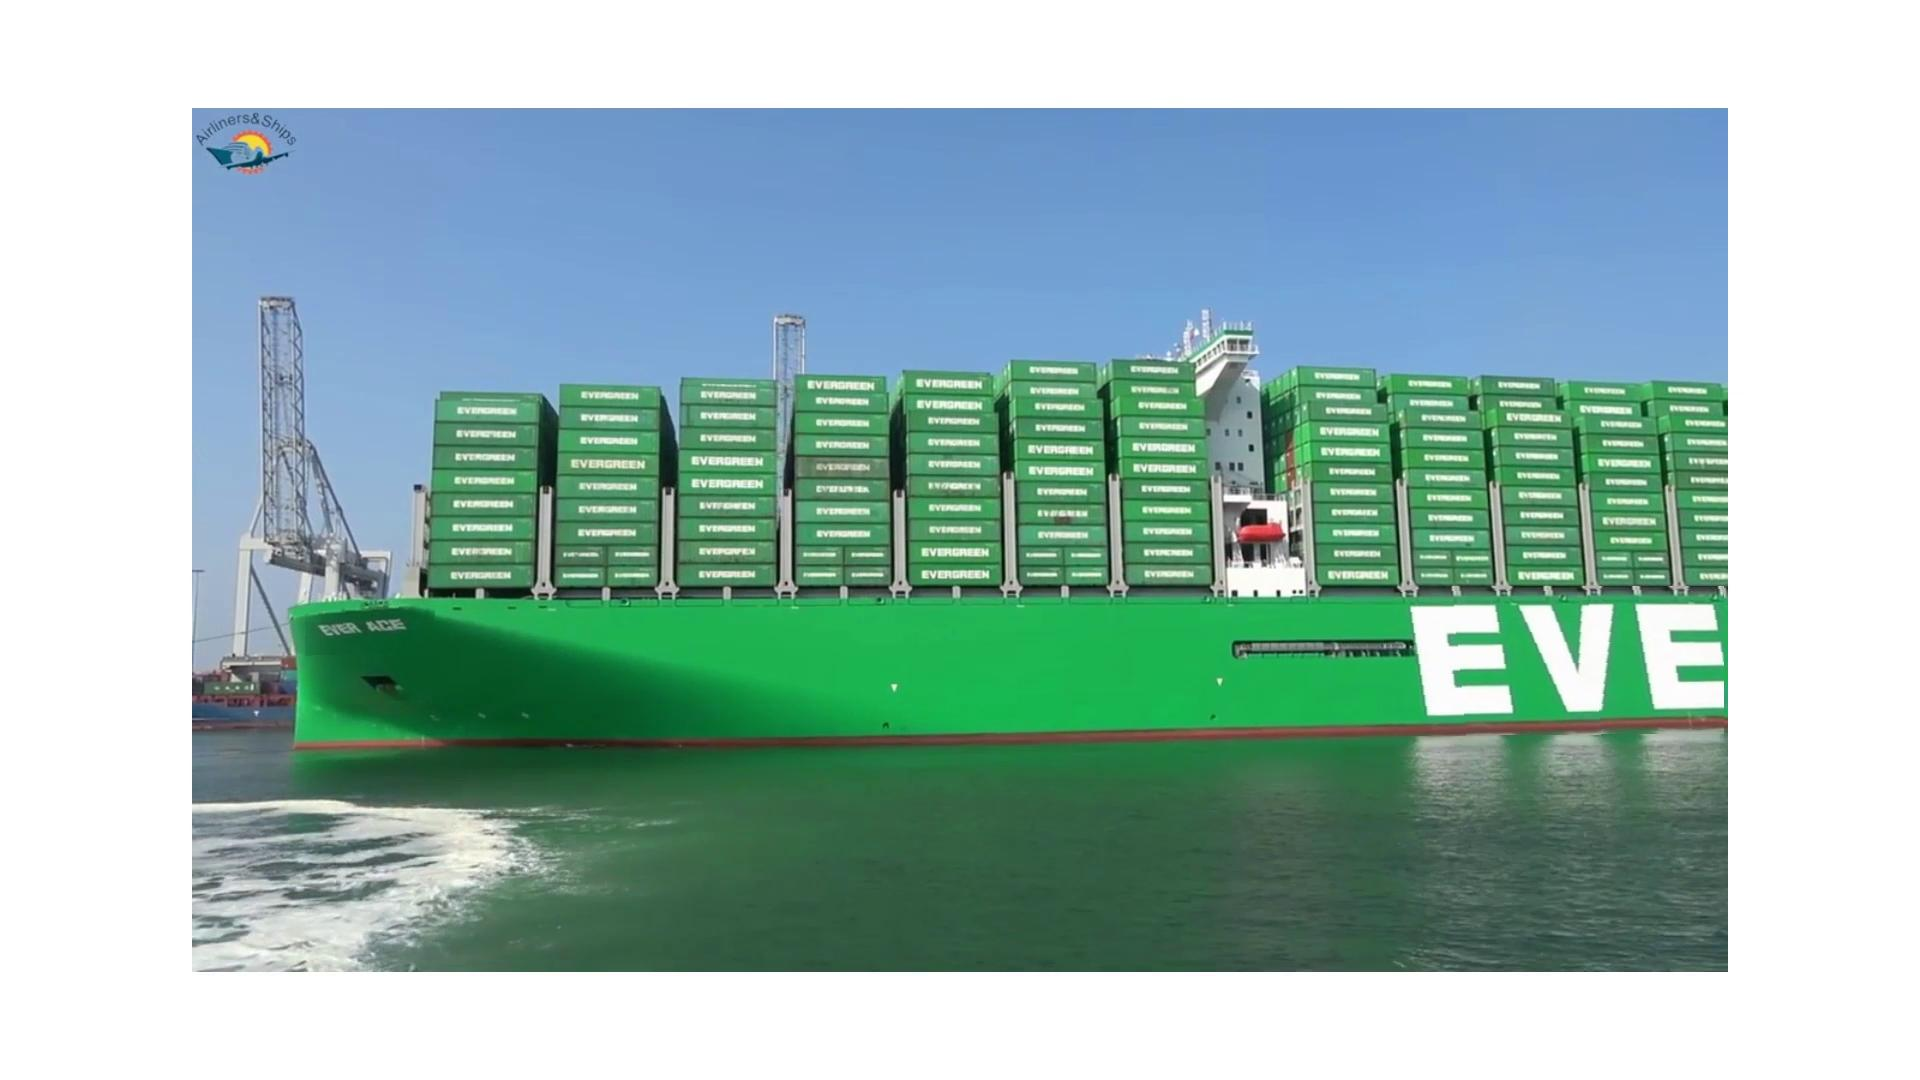OCR: (1385, 585, 1724, 736), (305, 604, 436, 655)
